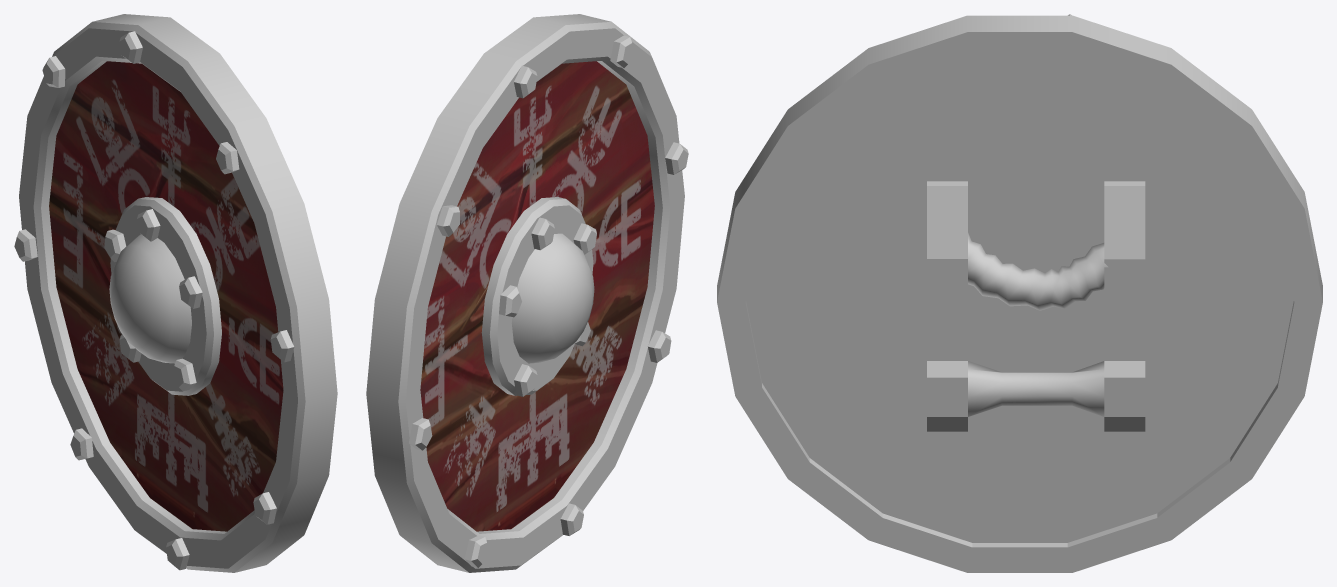
Rendered from Shields.fbx.
3 views of the same model, side by side, from view 1: azimuth 30°, elevation 25°; view 2: azimuth 150°, elevation 25°; view 3: azimuth 270°, elevation 25° (orthographic). The views are drawn at different scales.
Visible parts, largest first — view 1: Shield_a; view 2: Shield_a; view 3: Shield_a.
Part boxes in pixels (bbox=[...]): Shield_a: bbox=[14, 14, 337, 572]; Shield_a: bbox=[366, 14, 688, 572]; Shield_a: bbox=[717, 14, 1322, 572].
Size of the model in its own units: 19.11 by 72.57 by 73.69.
